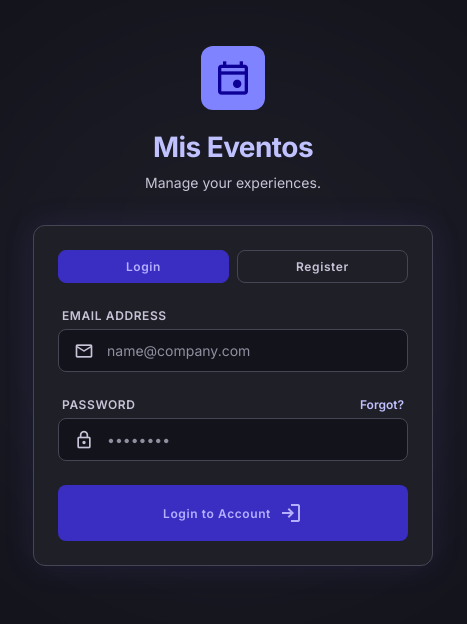
Scenario: LoginPage › shows api error message on failed login
This screenshot has width=467, height=624.
Type "bad@test.com" into the field labelled "Email Address" at (233, 350), box [58, 329, 408, 372]
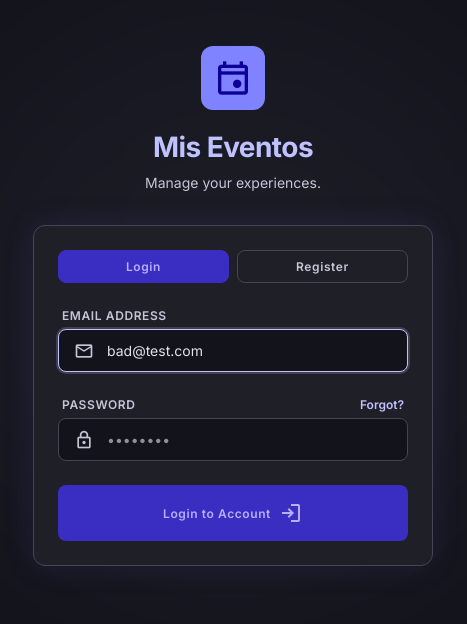
Type "wrongpass" into the password field labelled "Password" at (233, 440), box [58, 418, 408, 461]
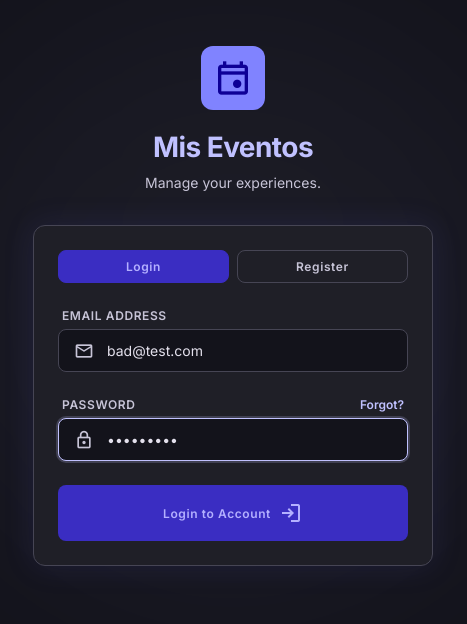
Click the button "Login to Account" at (233, 513), box [58, 485, 408, 541]
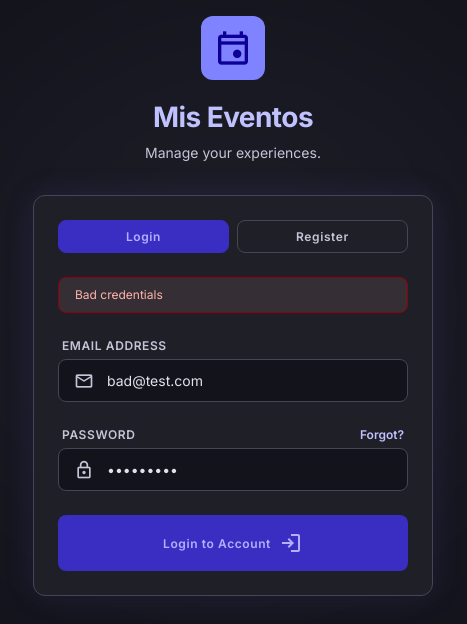
Now the text "Bad credentials" is shown, box [58, 277, 408, 313]
